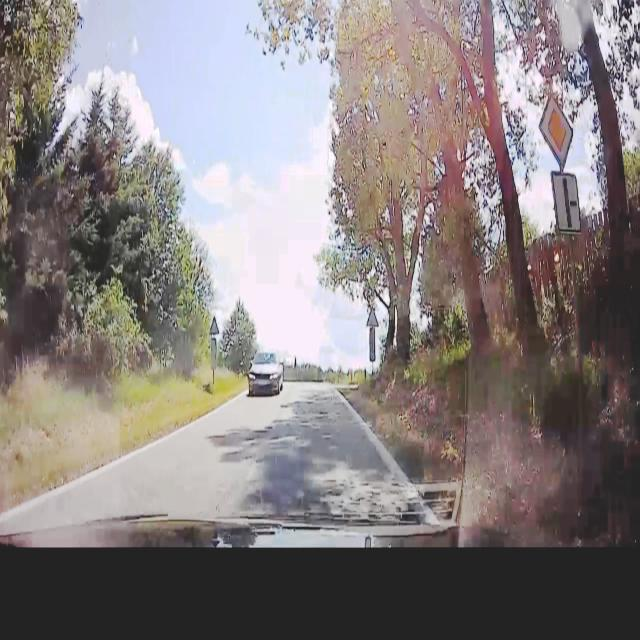Priority road: (536, 92, 576, 170)
